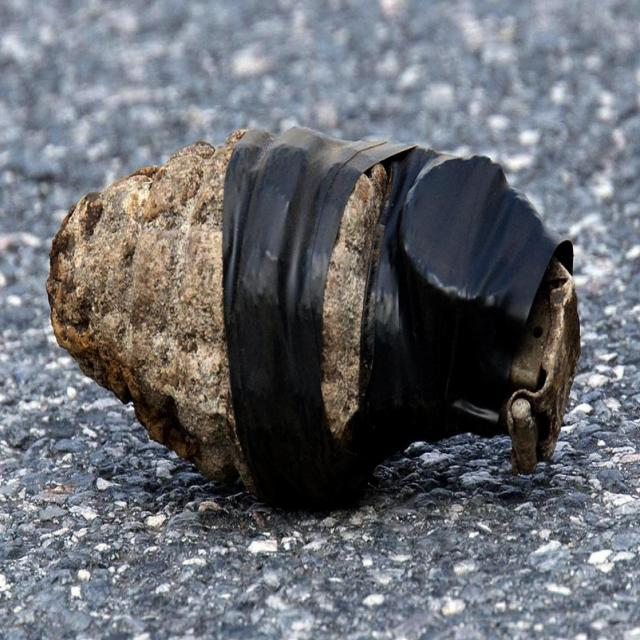grenade: (48, 123, 583, 517)
